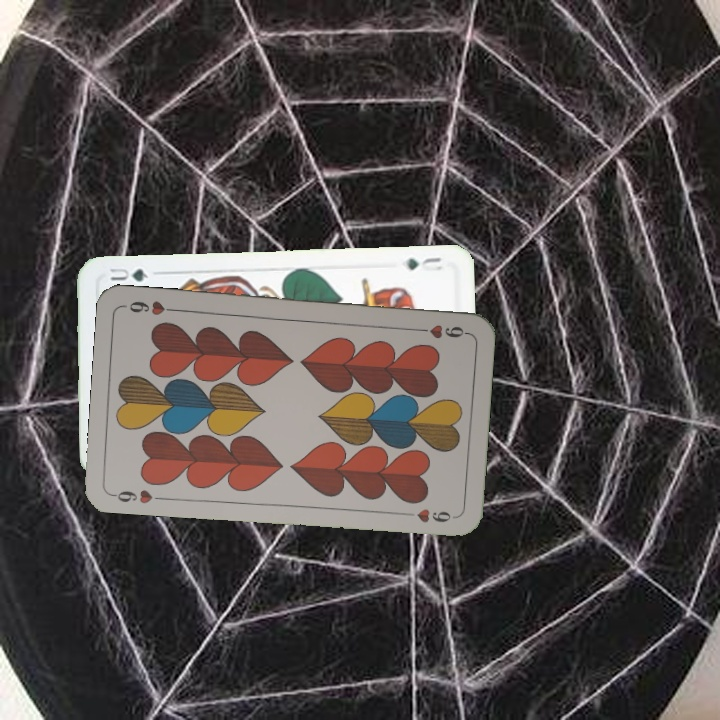GU: (402, 253, 445, 274)
H9: (410, 320, 469, 341), (108, 485, 167, 506)
